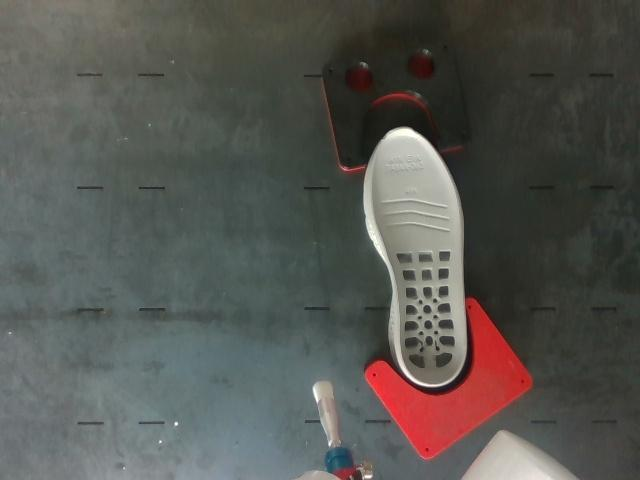shoes: (372, 129, 466, 385)
